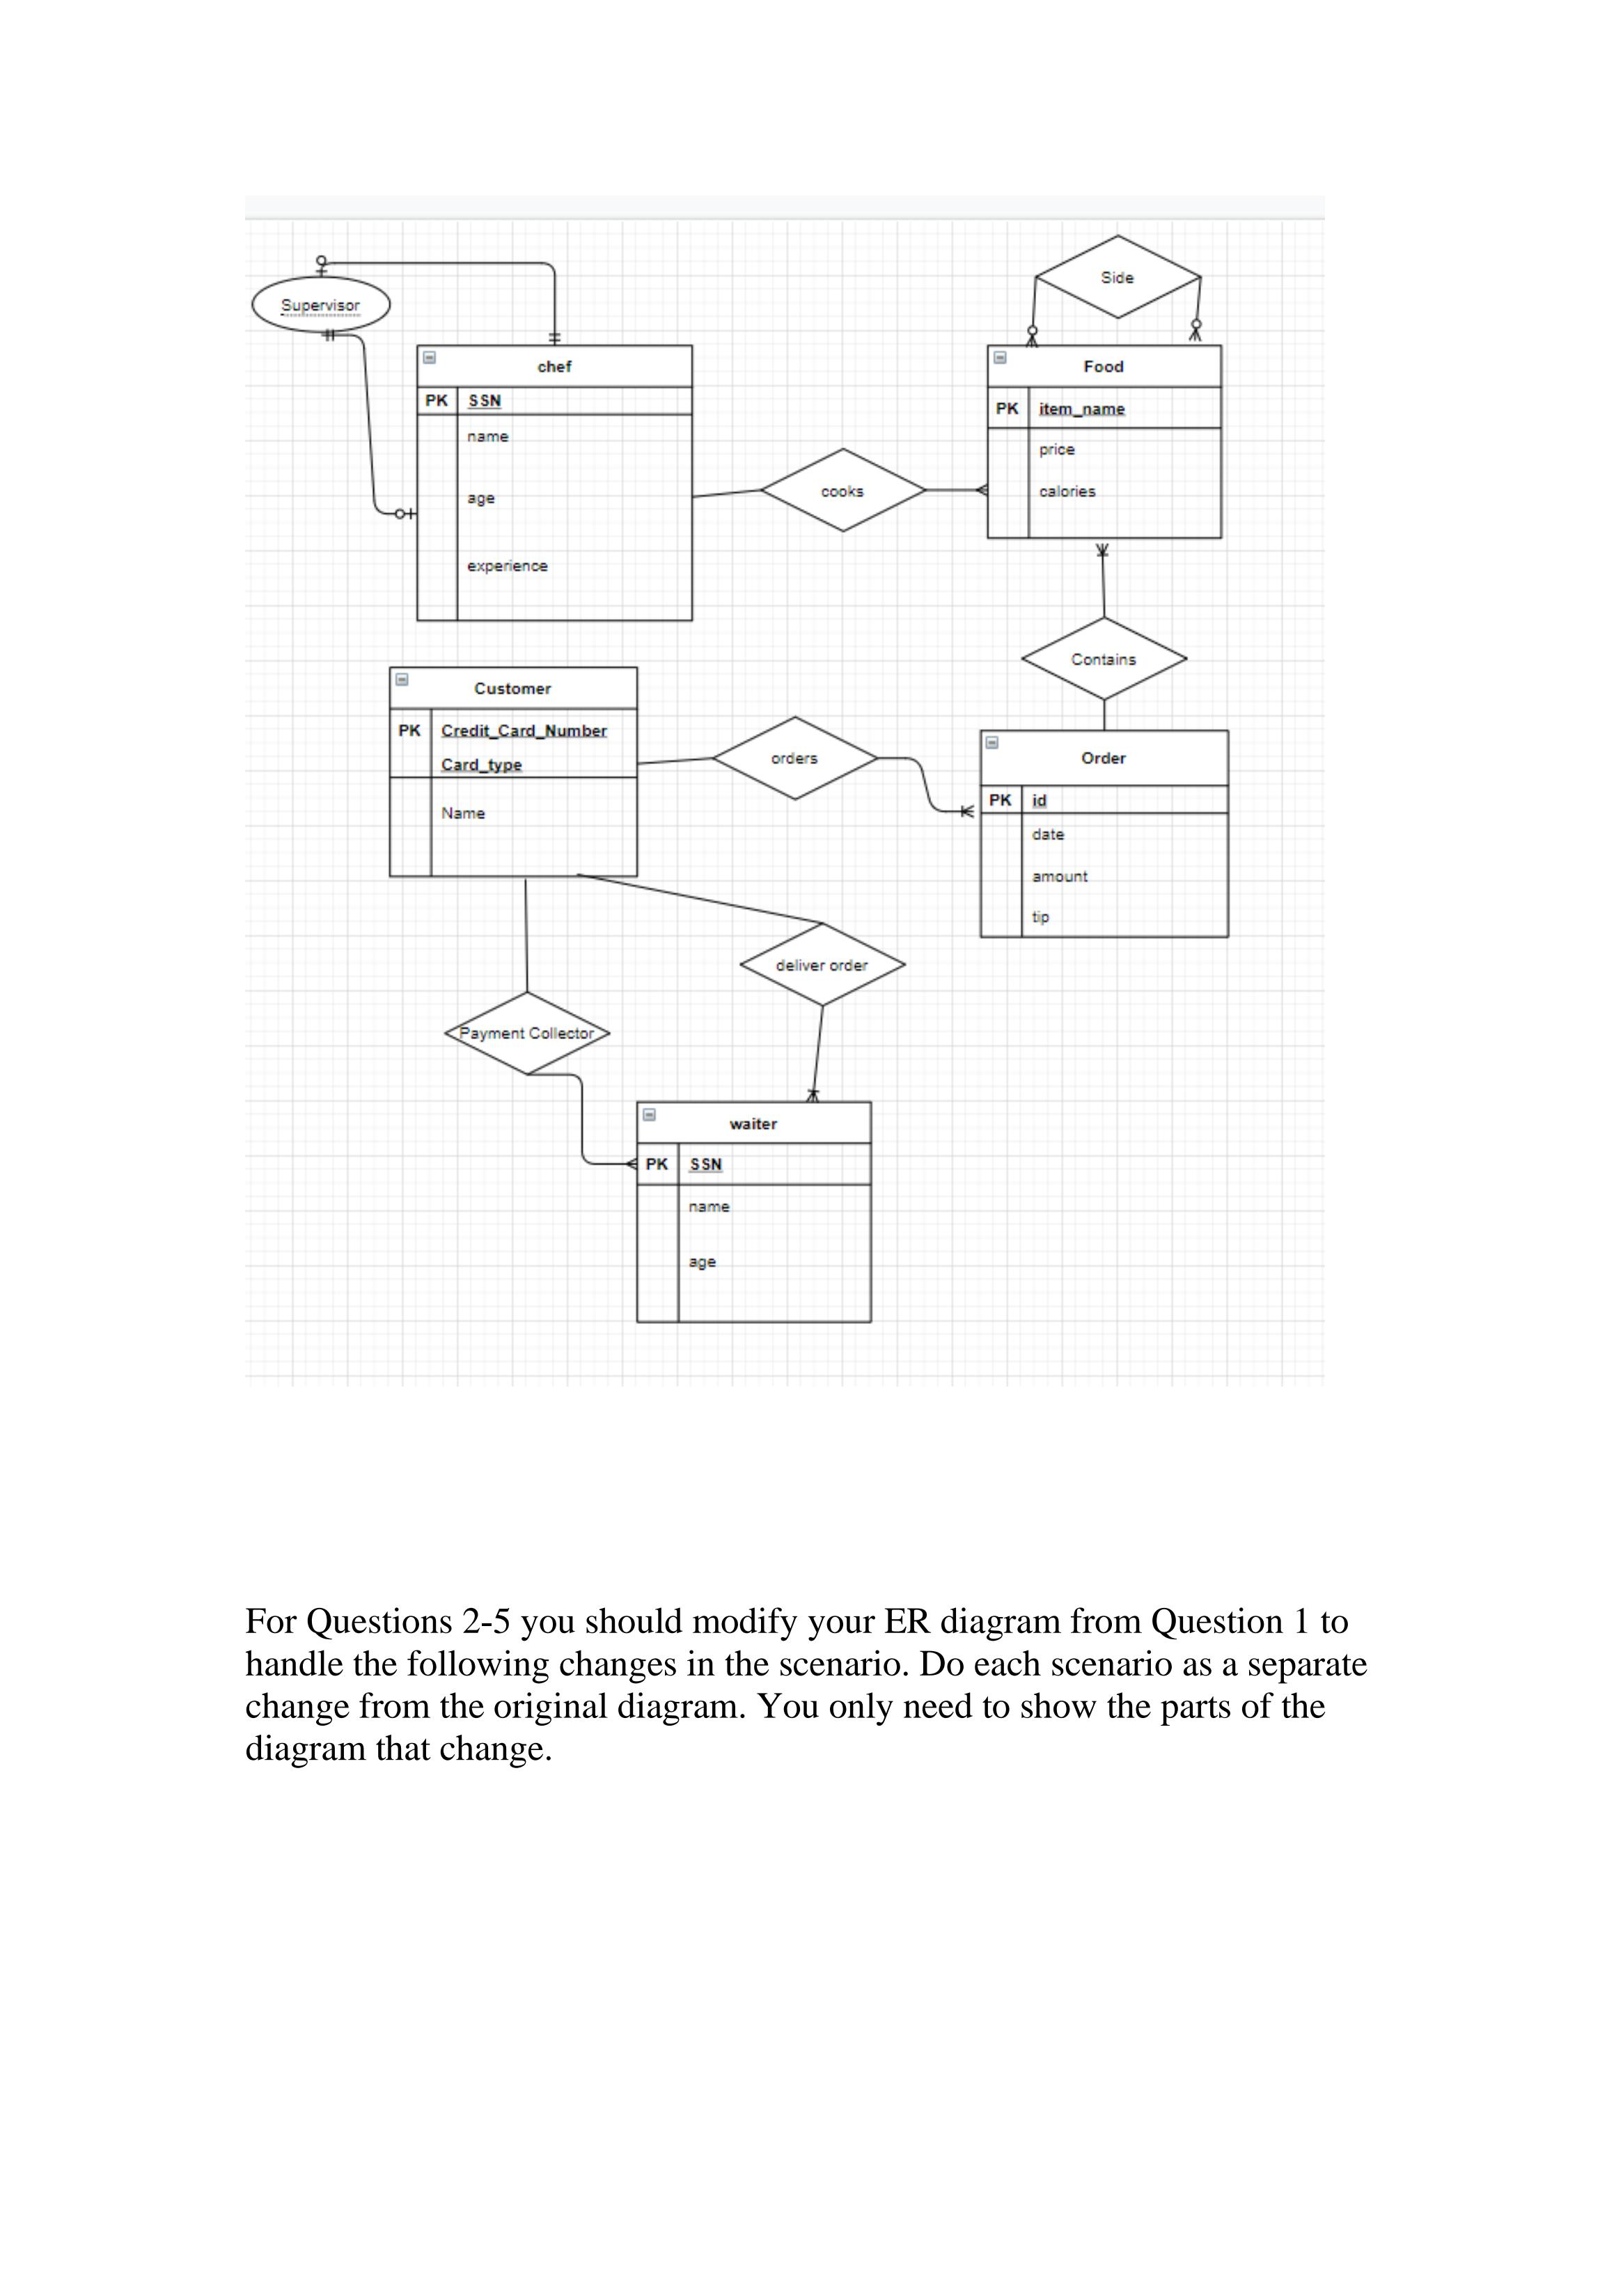Attribute: (251, 276, 393, 332)
Entity: (415, 343, 694, 622), (388, 666, 639, 878), (636, 1100, 873, 1325), (978, 729, 1231, 938), (985, 343, 1223, 541)
Relationship: (1035, 234, 1201, 320), (739, 921, 906, 1007), (444, 991, 613, 1075), (761, 448, 926, 532), (711, 717, 878, 799), (1021, 618, 1189, 699)
